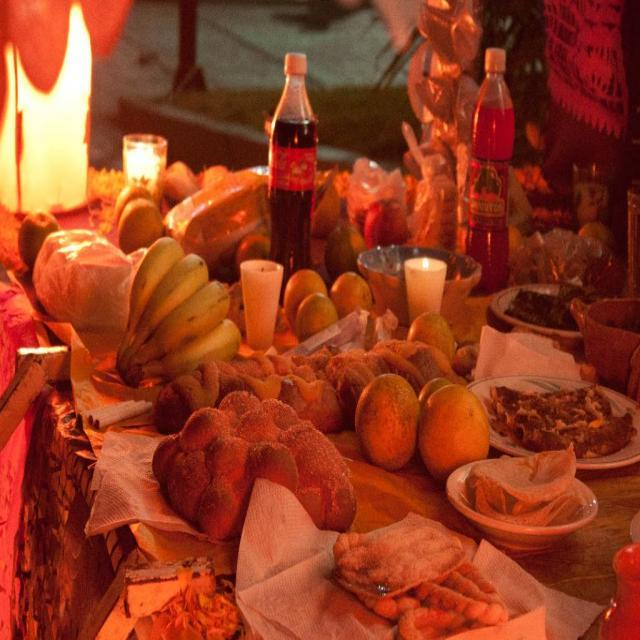Orange: (420, 383, 489, 484), (354, 371, 422, 473), (284, 266, 328, 328), (18, 211, 59, 272), (118, 199, 163, 253), (296, 293, 337, 343), (331, 273, 371, 318), (115, 185, 151, 223)
